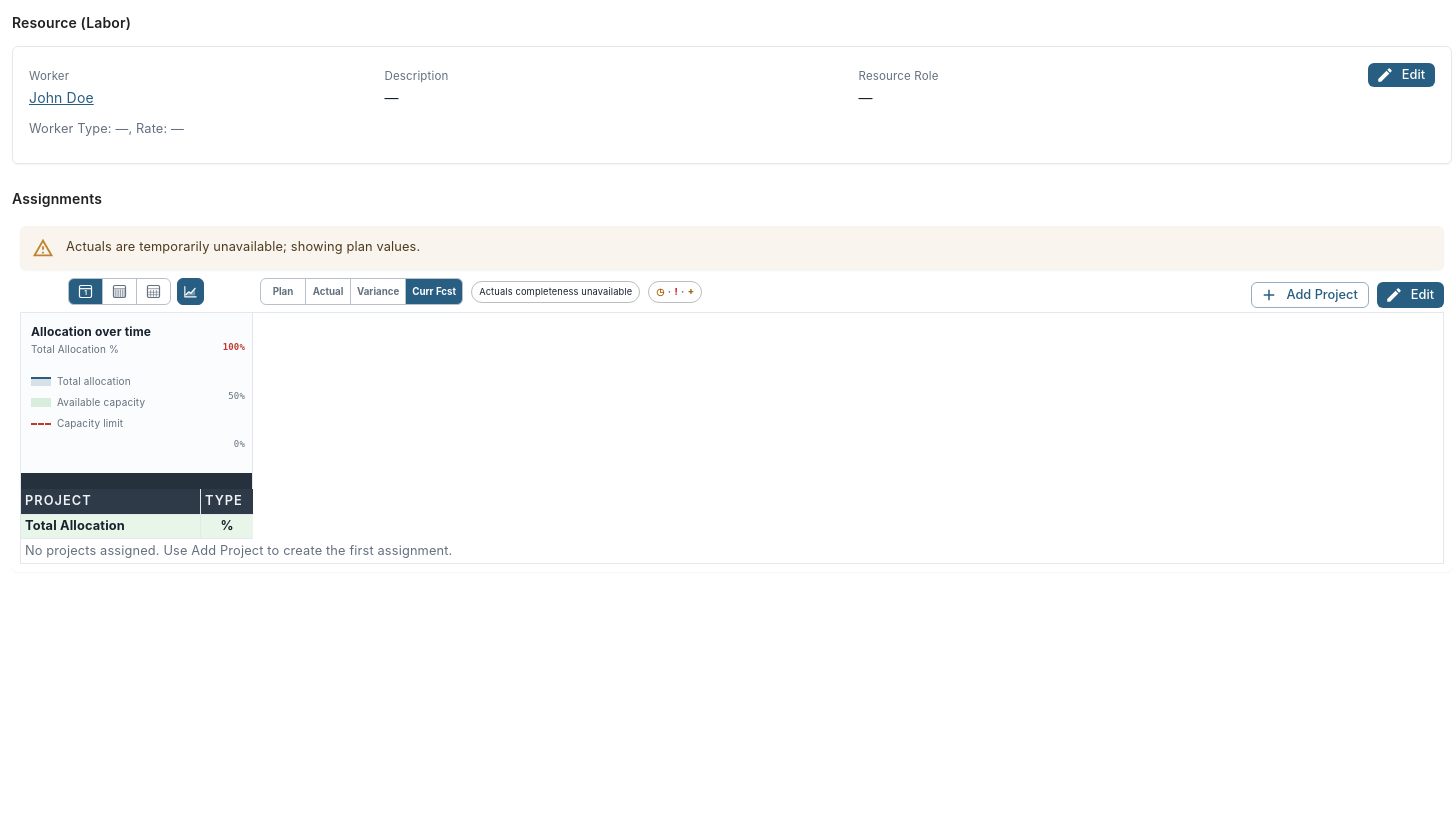
Test: ResourceDetailPage - bulk conflict handling › keeps Add Project available when the labor resource has no assignments
expect the text "No projects assigned" is shown: met, box [25,543,452,558]
Click the button "Add Project". click: (1310, 295)
box: [1251,282,1369,308]
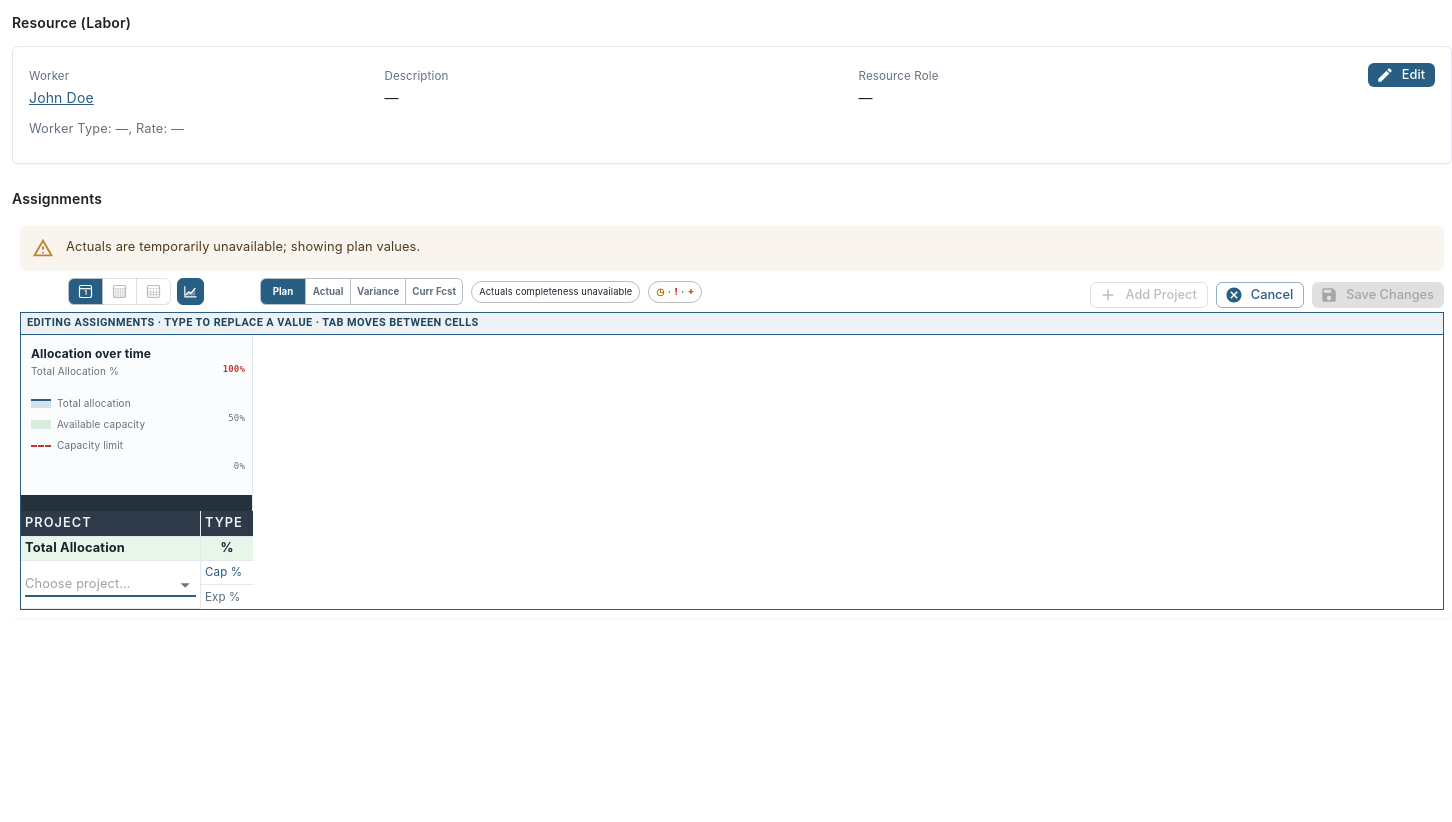
expect the dropdown named "Choose project to add" is shown: met, box [25,572,166,596]
